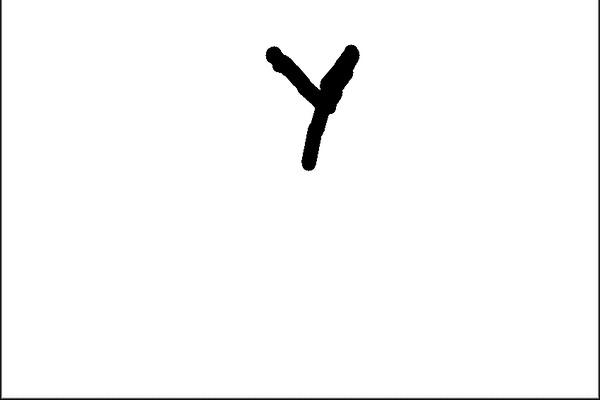Y: (249, 35, 372, 186)
